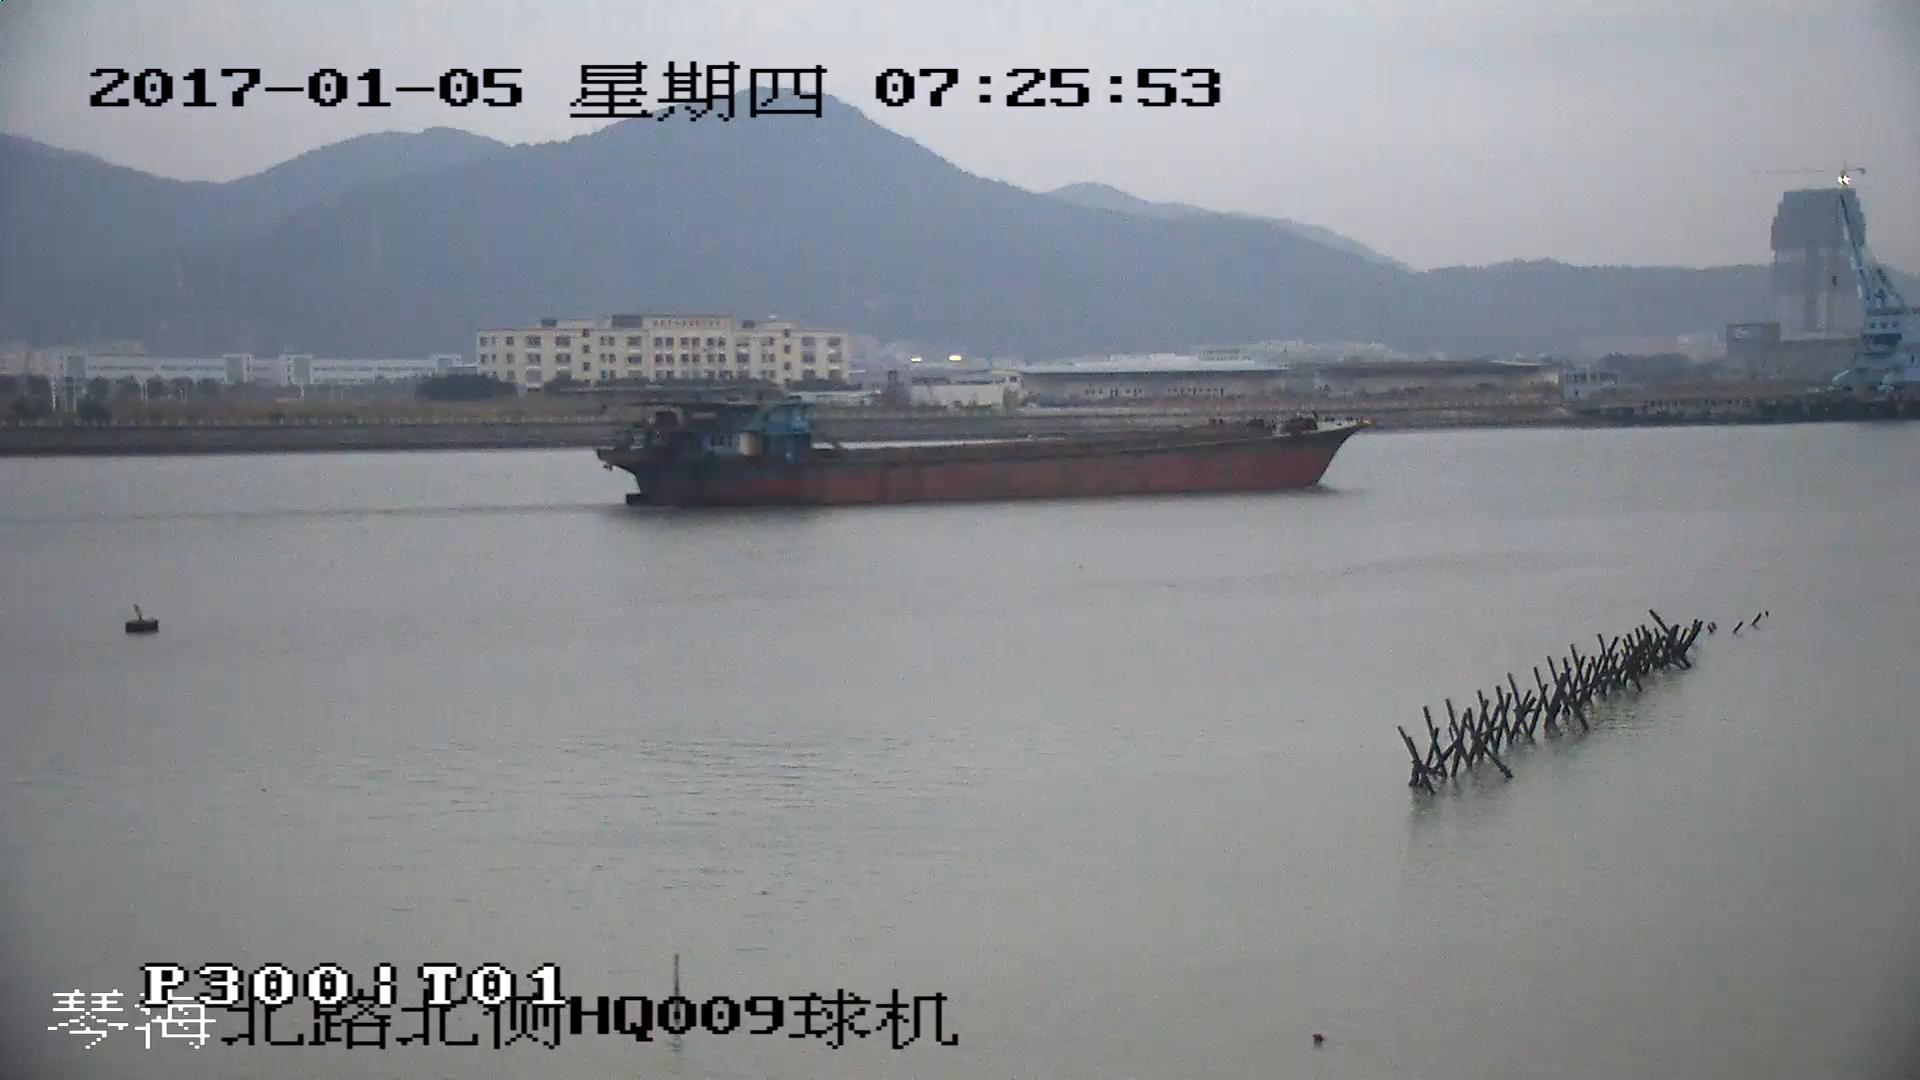Ship: (605, 407, 1373, 512)
